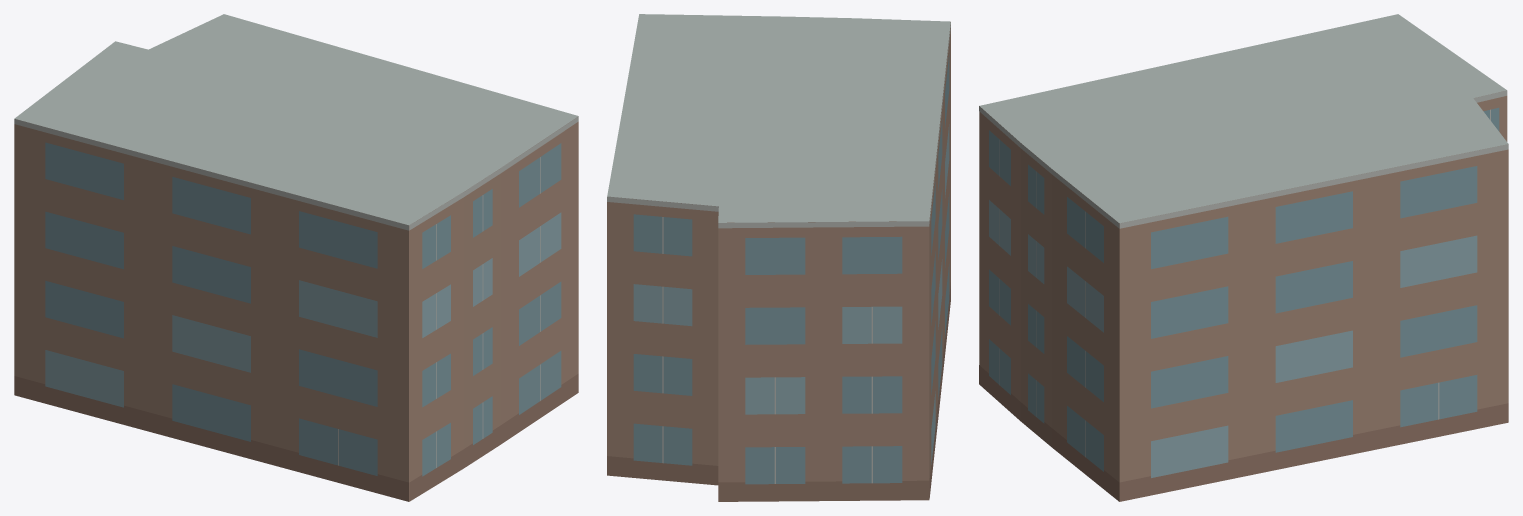
File: survey-upis-32730119.glb
3 views of the same model, side by side, from view 1: azimuth 30°, elevation 25°; view 2: azimuth 150°, elevation 25°; view 3: azimuth 270°, elevation 25° (orthographic).
Parts seen in each view (by area): view 1: survey-upis-32730119.tmp; view 2: survey-upis-32730119.tmp; view 3: survey-upis-32730119.tmp.
Boxes of the visible parts, x1=… form: survey-upis-32730119.tmp: x1=14, y1=14, x2=578, y2=501; survey-upis-32730119.tmp: x1=607, y1=14, x2=950, y2=501; survey-upis-32730119.tmp: x1=979, y1=14, x2=1508, y2=501.
Bounding box in the file's own units: 20.32 × 12.6 × 21.72.
